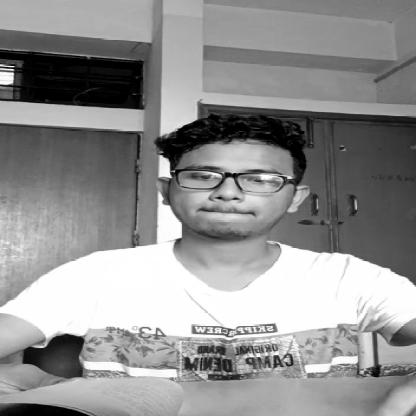Normal: (172, 114, 308, 242)
